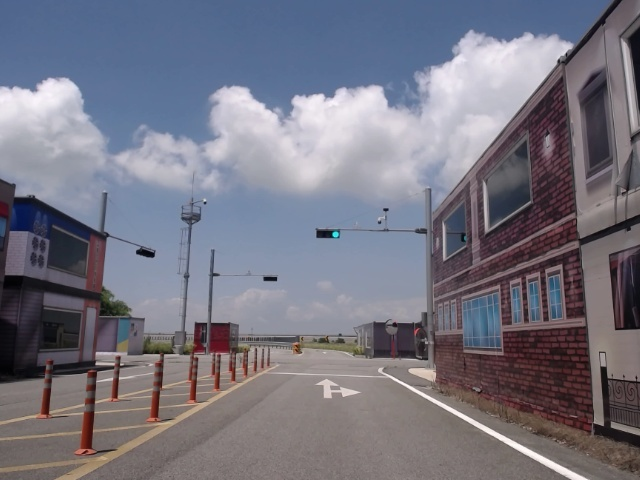green_3: (317, 231, 341, 238)
